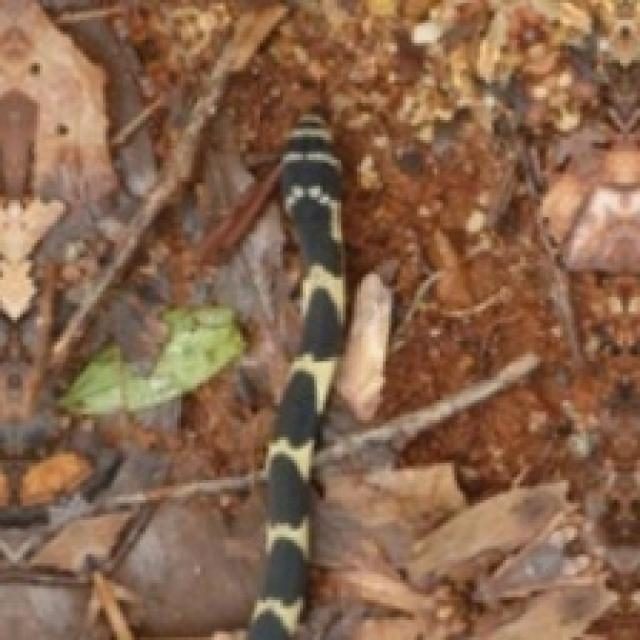king cobra: (249, 114, 343, 637)
